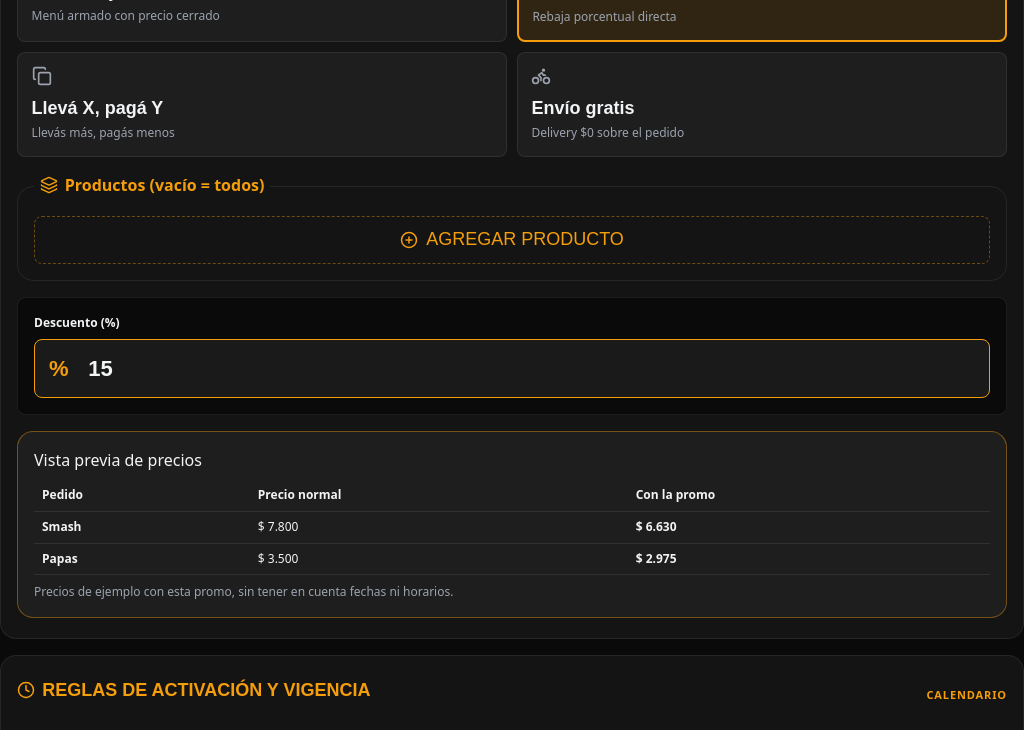
Test: PromotionForm preview › follows the form live: changing the percentage changes the prices
(page scrolled)
Replace the text in the number field labelled "Descuento (%)" with "50". click: [532, 369]
box: x1=74 y1=340 x2=989 y2=397
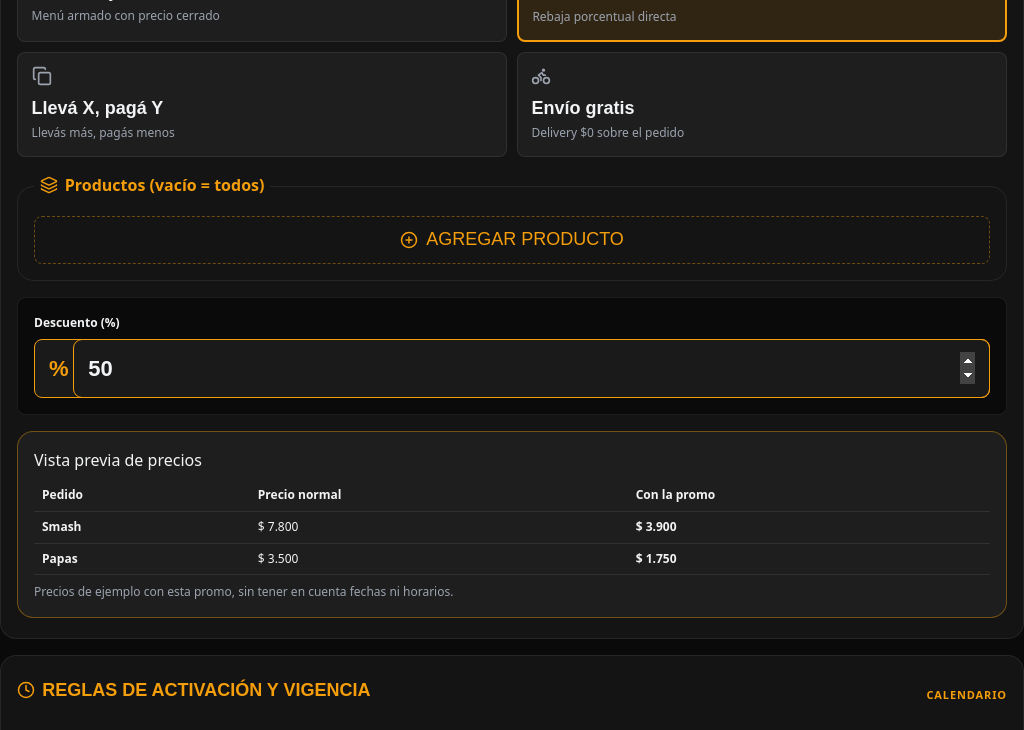
Clear the number field labelled "Descuento (%)". click: [532, 369]
box: x1=74 y1=340 x2=989 y2=397
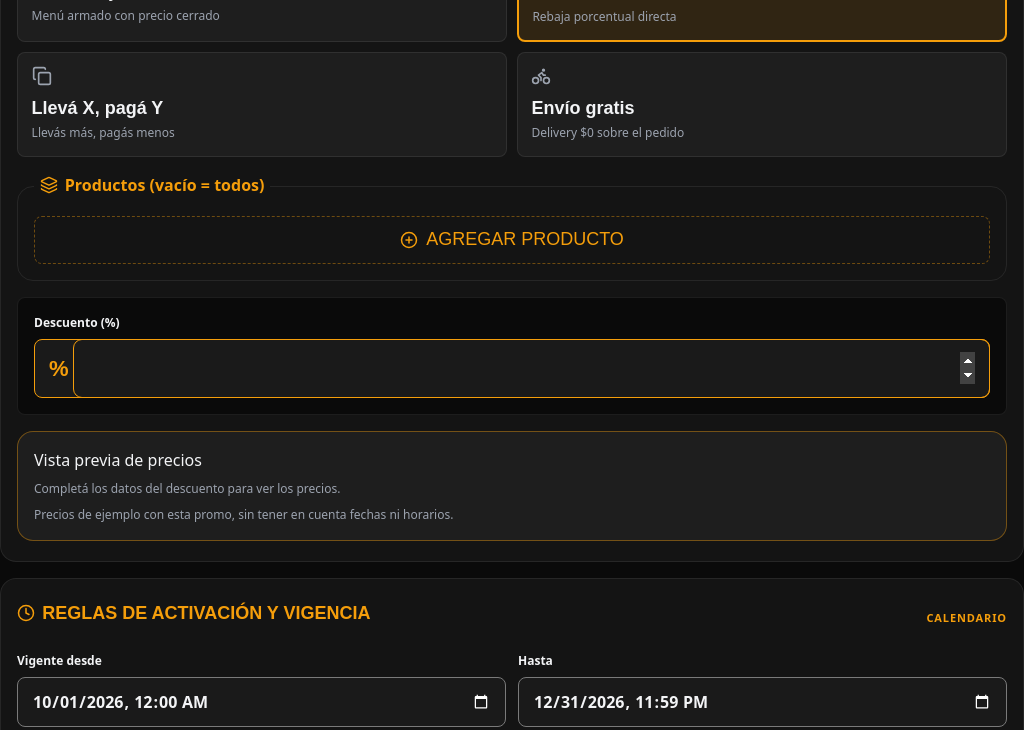
Now the text "Completá los datos del descuento para ver los precios." is shown, box x1=34 y1=480 x2=340 y2=497
